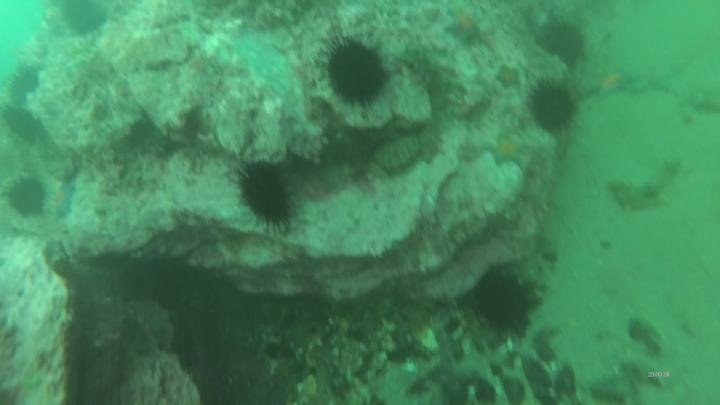echinus: (329, 47, 386, 105), (480, 280, 529, 329), (243, 172, 290, 222), (535, 85, 573, 127), (547, 24, 584, 60), (64, 1, 105, 33), (9, 183, 45, 216), (4, 107, 37, 142), (8, 68, 41, 95)
holothurian: (611, 163, 689, 213), (403, 43, 454, 112)
starfish: (443, 7, 483, 42), (492, 138, 525, 169), (597, 67, 625, 97), (53, 187, 76, 217), (498, 63, 523, 89)
